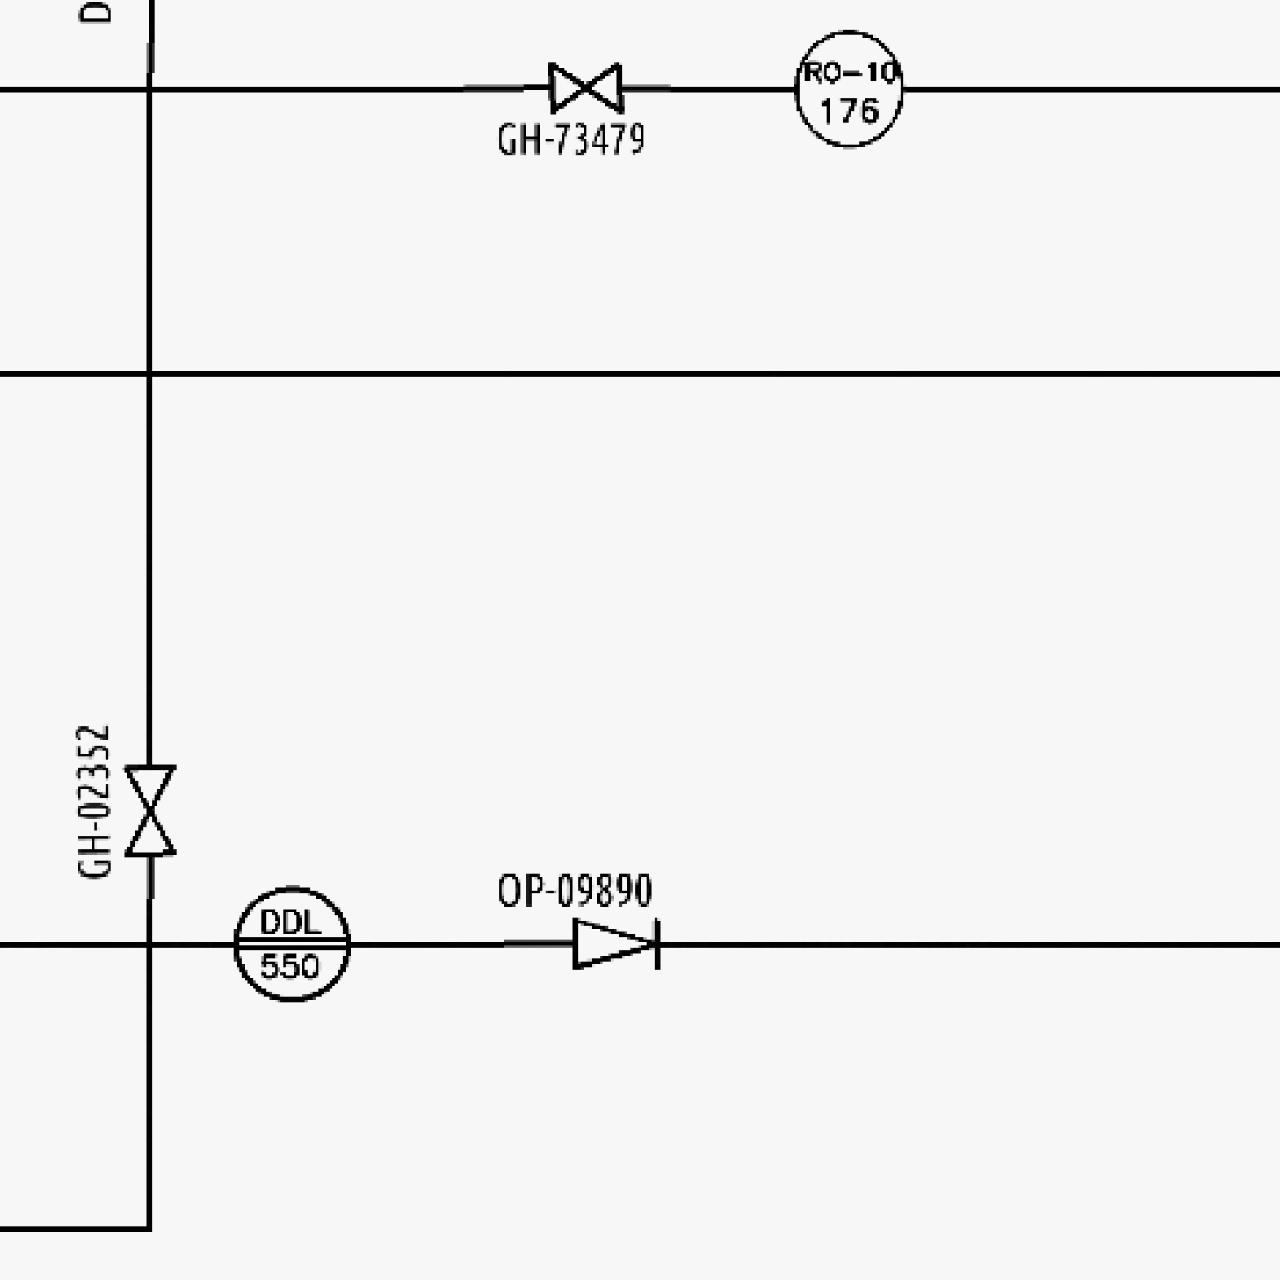Control-Panel: (785, 23, 912, 151), (227, 880, 355, 1006)
